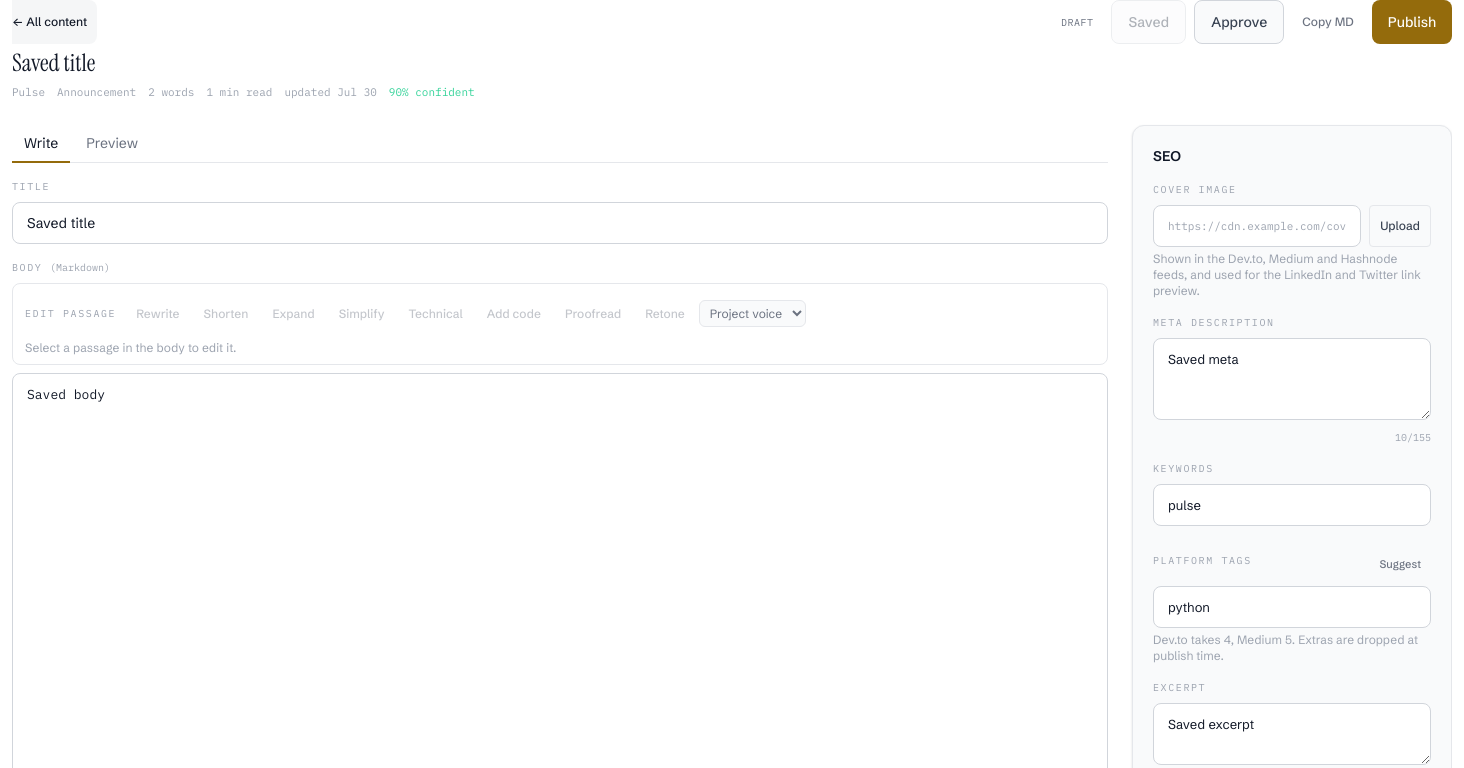
Test case: mirroring edits › writes what is typed to the buffer
This screenshot has width=1464, height=768.
In the field labelled "Title": [560, 222] box left=12, top=202, right=1108, bottom=244, type "!"
(page scrolled)
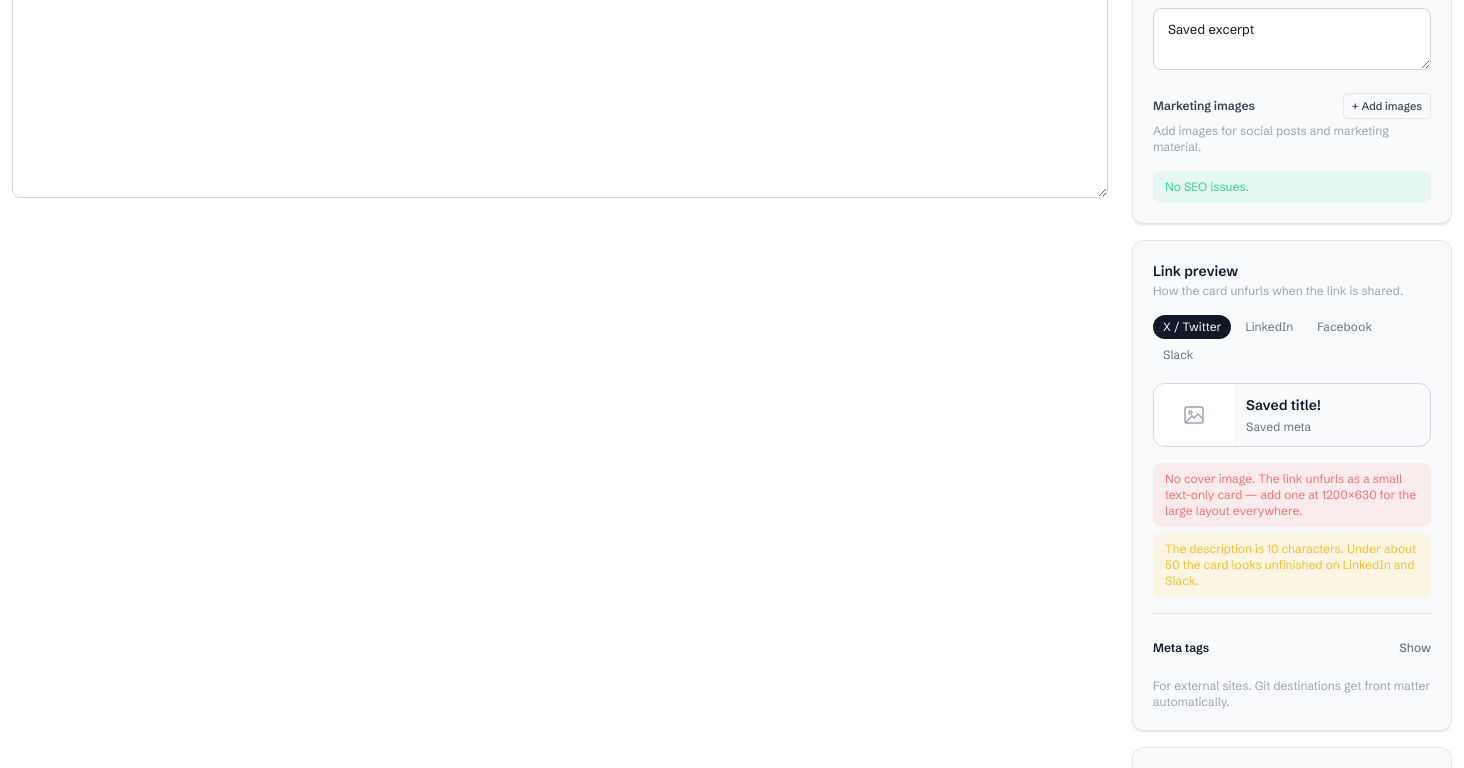
Result: the text "Saved title!" is shown at left=1246, top=396, right=1321, bottom=414
